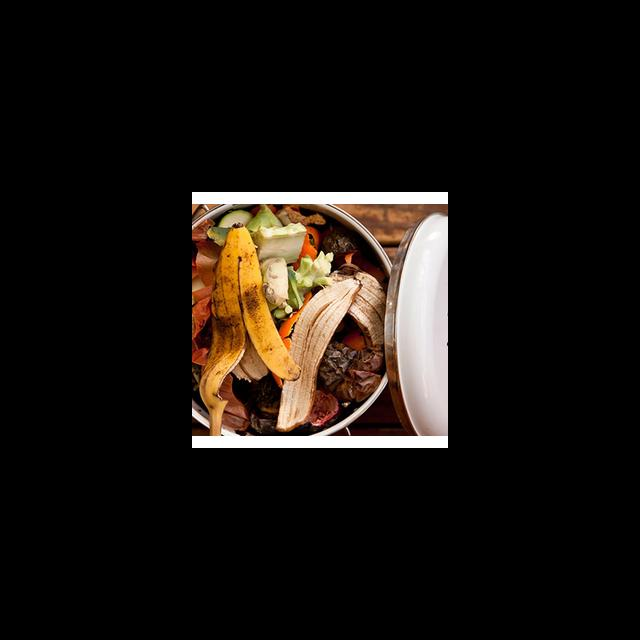food_waste: (192, 206, 388, 430)
